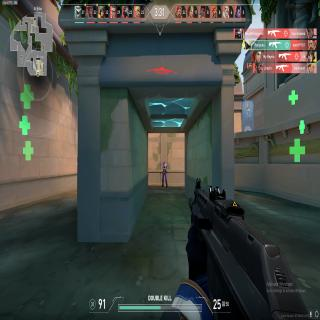ENEMY-BODY: (162, 158, 168, 188)
ENEMY-HEAD: (163, 158, 166, 164)
